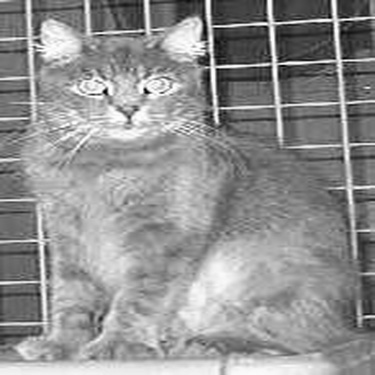cat: (16, 21, 364, 357)
